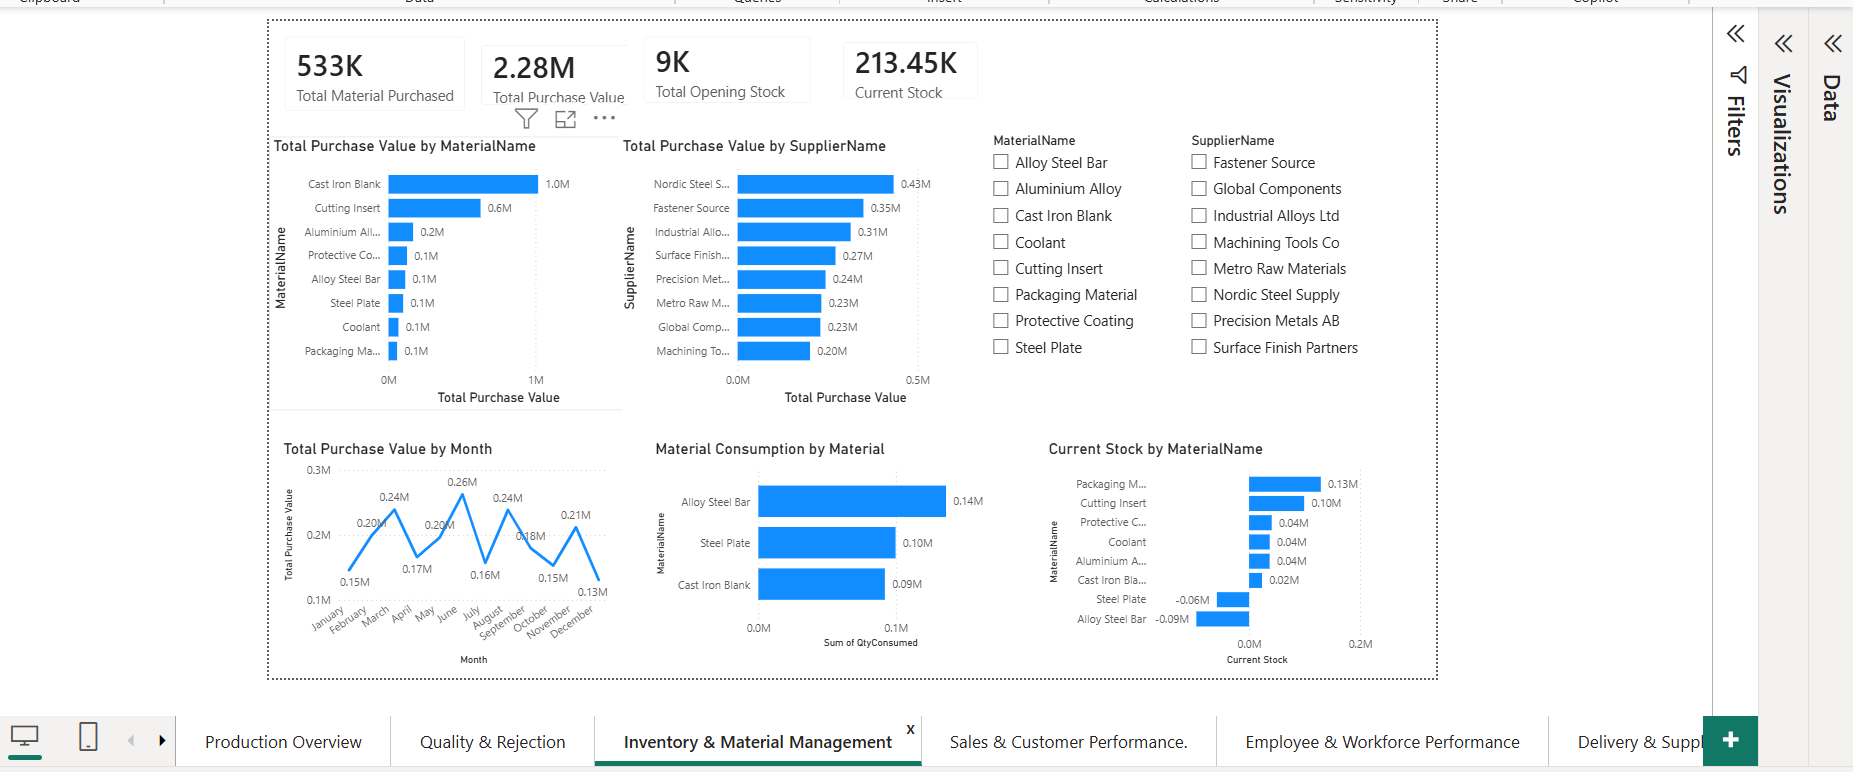

This screenshot's page, from the dashboard's own definition file:
{"tool":"powerbi","page":{"name":"Inventory & Material Management","canvas":[1280,720],"ordinal":2},"visuals":[{"type":"cardVisual","fields":{"Data":["tblFactPurchases.Total Material Purchased"]},"box":[0,0,232.4,116.2],"z":0},{"type":"cardVisual","fields":{"Data":["tblFactPurchases.Total Purchase Value"]},"box":[216.2,8.8,204.4,100],"z":1000},{"type":"clusteredBarChart","fields":{"Category":["tblDimMaterial.MaterialName"],"Y":["tblFactPurchases.Total Purchase Value"]},"box":[0,127.3,386.8,298.7],"z":2000},{"type":"clusteredBarChart","fields":{"Category":["tblDimSupplier.SupplierName"],"Y":["tblFactPurchases.Total Purchase Value"]},"box":[383.5,127.3,386.8,298.7],"z":3000},{"type":"slicer","fields":{"Values":["tblDimMaterial.MaterialName"]},"box":[781.8,117.5,182.8,308.5],"z":4000},{"type":"slicer","fields":{"Values":["tblDimSupplier.SupplierName"]},"box":[998.8,117.5,217.1,308.5],"z":5000},{"type":"lineChart","fields":{"Category":["tblFactPurchases.OrderDate.Variation.Date Hierarchy.Year","tblFactPurchases.OrderDate.Variation.Date Hierarchy.Quarter","tblFactPurchases.OrderDate.Variation.Date Hierarchy.Month","tblFactPurchases.OrderDate.Variation.Date Hierarchy.Day"],"Y":["tblFactPurchases.Total Purchase Value"]},"box":[11.4,458.6,365.6,251.3],"z":6000},{"type":"clusteredBarChart","title":"Material Consumption by Material","fields":{"Category":["tblDimMaterial.MaterialName"],"Y":["Sum(tblFactMaterialUsage.QtyConsumed)"]},"box":[419.4,458.6,383.5,233.4],"z":7000},{"type":"cardVisual","fields":{"Data":["tblDimMaterial.Total Opening Stock"]},"box":[393.3,0,218.7,107.7],"z":8000},{"type":"cardVisual","fields":{"Data":["tblDimMaterial.Current Stock"]},"box":[612,6.5,182.8,96.3],"z":9000},{"type":"clusteredBarChart","fields":{"Category":["tblDimMaterial.MaterialName"],"Y":["tblDimMaterial.Current Stock"]},"box":[850.3,458.6,365.6,251.3],"z":10000}]}

Visuals, with their boxes on the page's 1280x720 design canvas (x1, y1, x2, y2). These are canvas units, not pixel positions in the 1853x772 screenshot, which may show the page scaled, cropped or inside an application window:
cardVisual - tblFactPurchases.Total Material Purchased: {"x1": 0, "y1": 0, "x2": 232, "y2": 116}
cardVisual - tblFactPurchases.Total Purchase Value: {"x1": 216, "y1": 9, "x2": 421, "y2": 109}
clusteredBarChart - tblDimMaterial.MaterialName x tblFactPurchases.Total Purchase Value: {"x1": 0, "y1": 127, "x2": 387, "y2": 426}
clusteredBarChart - tblDimSupplier.SupplierName x tblFactPurchases.Total Purchase Value: {"x1": 384, "y1": 127, "x2": 770, "y2": 426}
slicer - tblDimMaterial.MaterialName: {"x1": 782, "y1": 118, "x2": 965, "y2": 426}
slicer - tblDimSupplier.SupplierName: {"x1": 999, "y1": 118, "x2": 1216, "y2": 426}
lineChart - tblFactPurchases.OrderDate.Variation.Date Hierarchy.Year x tblFactPurchases.OrderDate.Variation.Date Hierarchy.Quarter: {"x1": 11, "y1": 459, "x2": 377, "y2": 710}
"Material Consumption by Material" clusteredBarChart: {"x1": 419, "y1": 459, "x2": 803, "y2": 692}
cardVisual - tblDimMaterial.Total Opening Stock: {"x1": 393, "y1": 0, "x2": 612, "y2": 108}
cardVisual - tblDimMaterial.Current Stock: {"x1": 612, "y1": 6, "x2": 795, "y2": 103}
clusteredBarChart - tblDimMaterial.MaterialName x tblDimMaterial.Current Stock: {"x1": 850, "y1": 459, "x2": 1216, "y2": 710}
